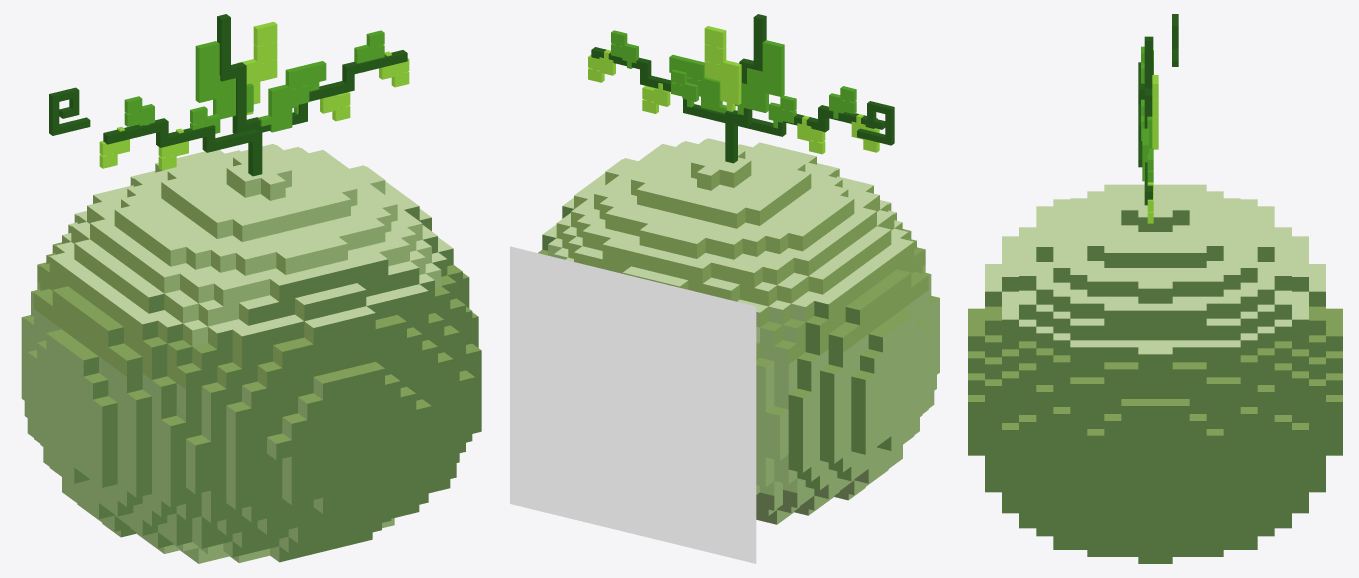
Rendered from slime_dendro.glb.
3 renders of one model, left to right at view 1: azimuth 30°, elevation 25°; view 2: azimuth 150°, elevation 25°; view 3: azimuth 270°, elevation 25°, orthographic. The views are drawn at different scales.
Parts seen in each view (by area): view 1: Shell, DendroGrowth; view 2: Shell, Face, DendroGrowth; view 3: Shell, DendroGrowth.
Part boxes in pixels (bbox=[...]): Shell: bbox=[21, 143, 481, 563]; DendroGrowth: bbox=[49, 14, 409, 176]; Shell: bbox=[538, 138, 939, 524]; Face: bbox=[510, 246, 756, 563]; DendroGrowth: bbox=[588, 14, 894, 163]; Shell: bbox=[968, 184, 1342, 563]; DendroGrowth: bbox=[1138, 14, 1178, 223].
Bounding box in the file's own units: 1.21 × 1.51 × 1.15.
